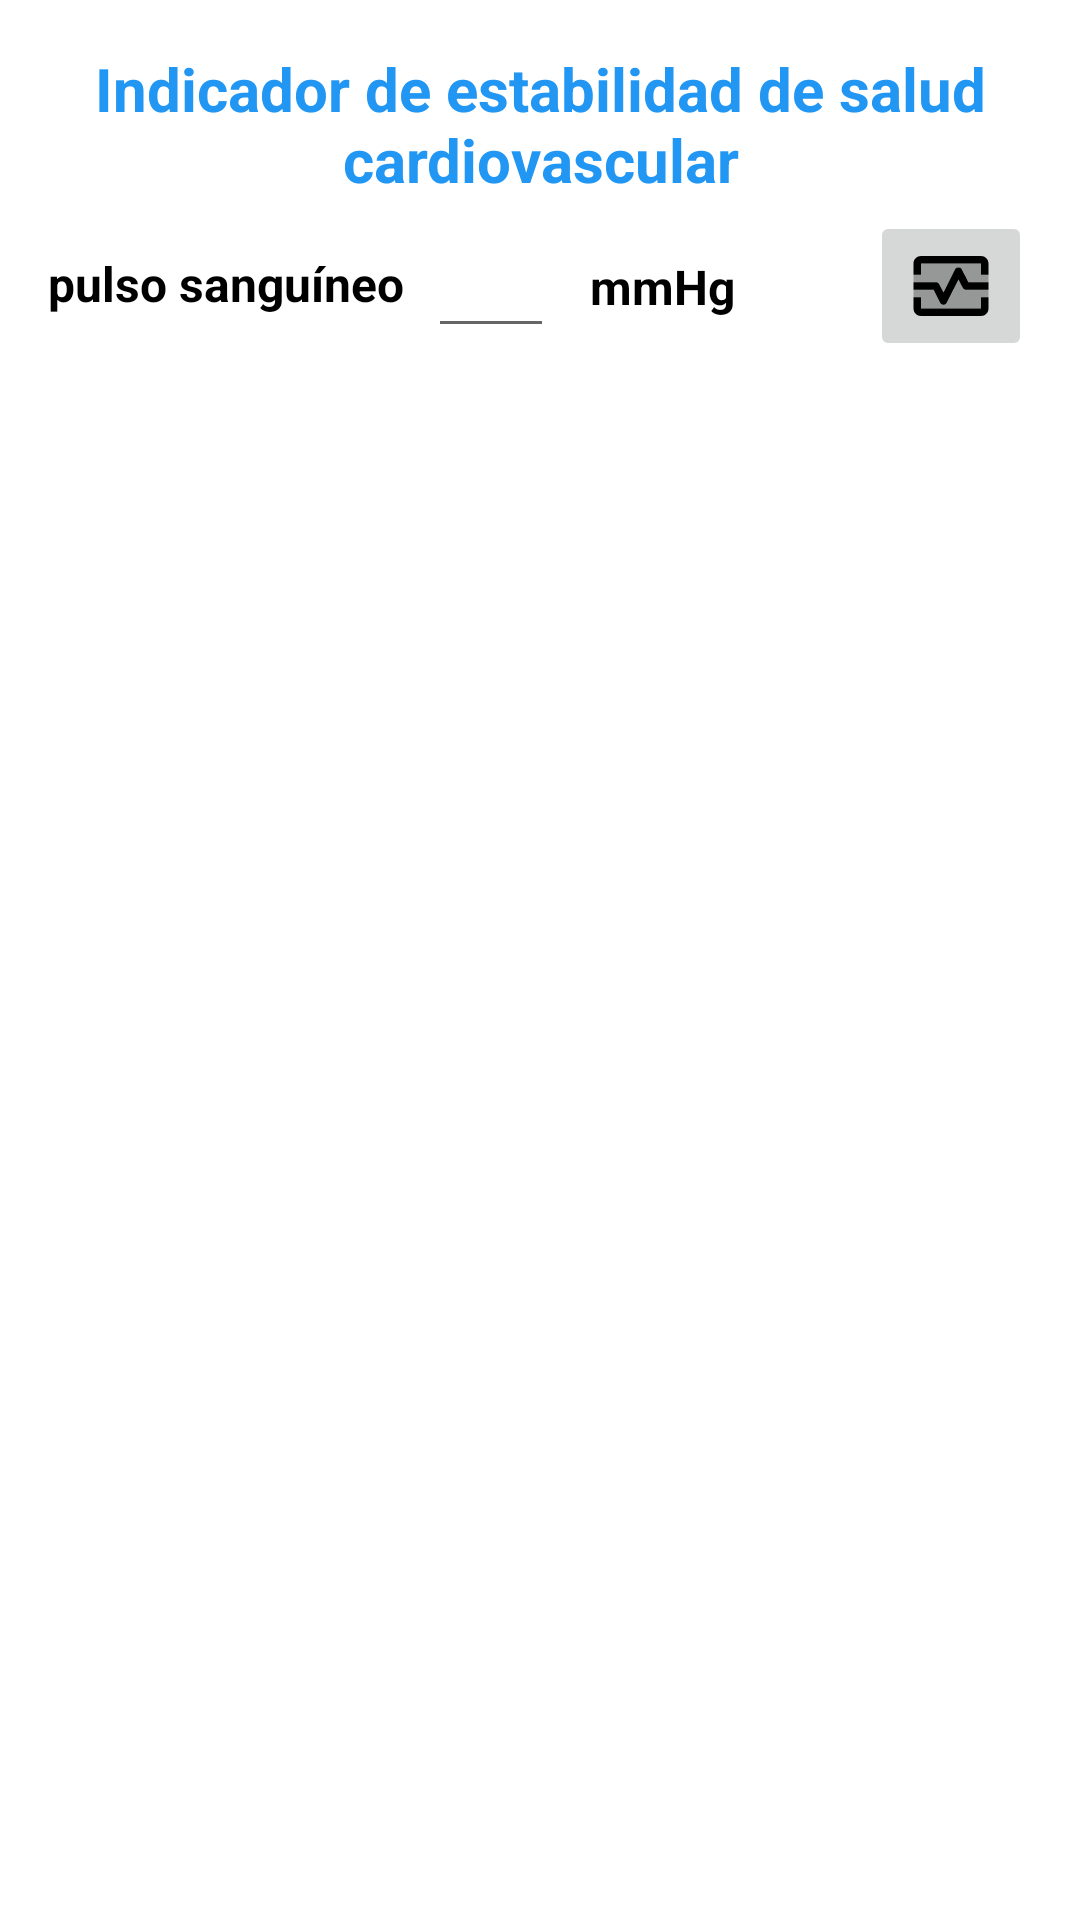

Point at icon controls on the screen. Image size 1080 × 1920, points as [x,y].
monitor heart: [951,286]
